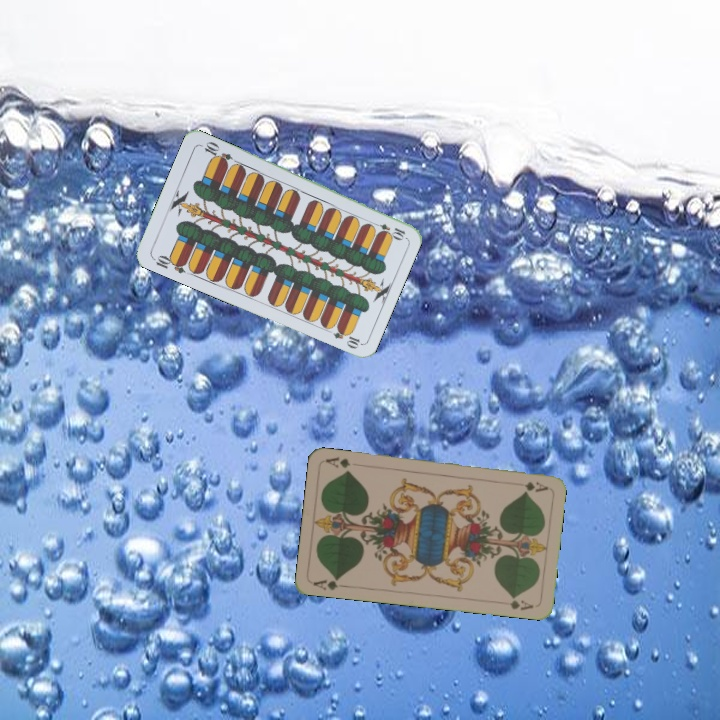E10: (149, 251, 189, 276), (368, 218, 408, 241)
GA: (309, 573, 350, 593), (510, 478, 550, 494)
